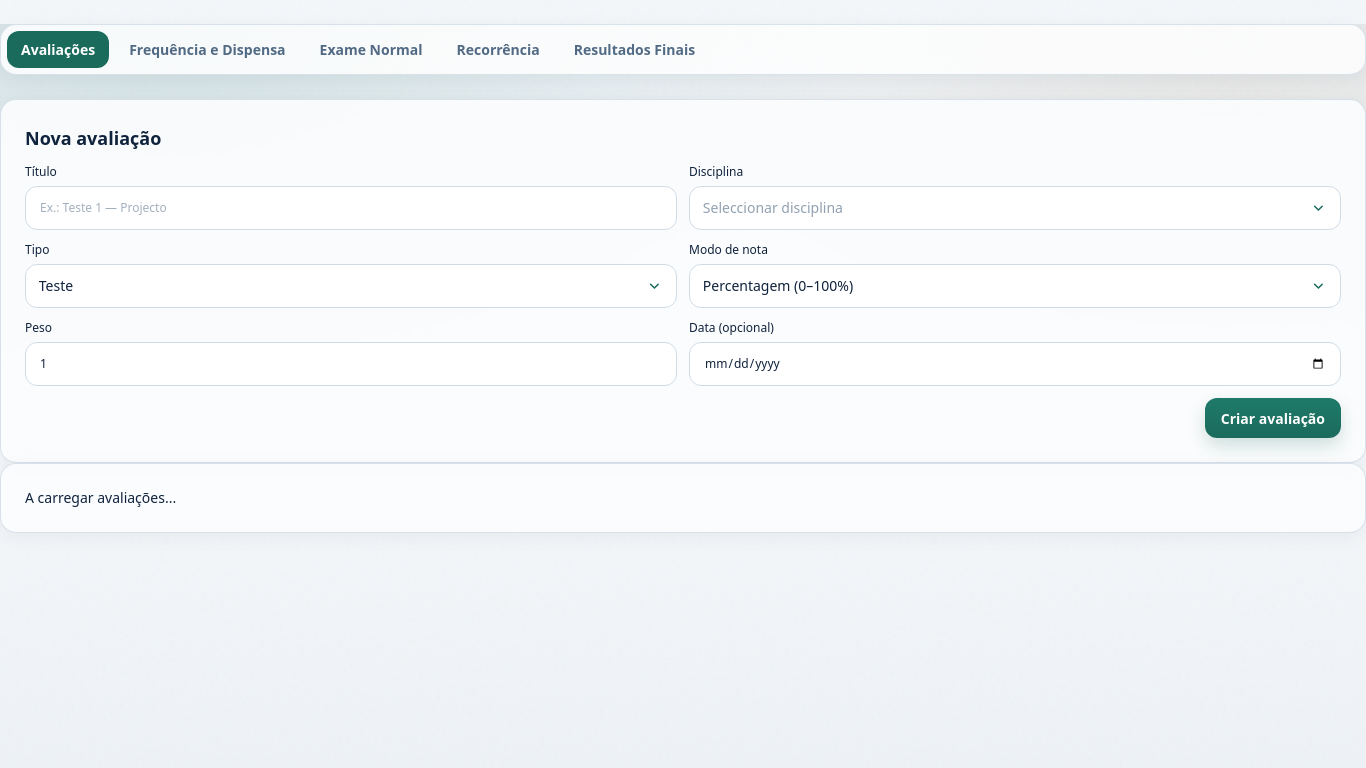
Test: AssessmentsPage › separador Recorrência mostra a legenda do asterisco e campo apenas para elegíveis
This screenshot has width=1366, height=768.
Click the tab "Recorrência" at (498, 50), box [442,31,554,68]
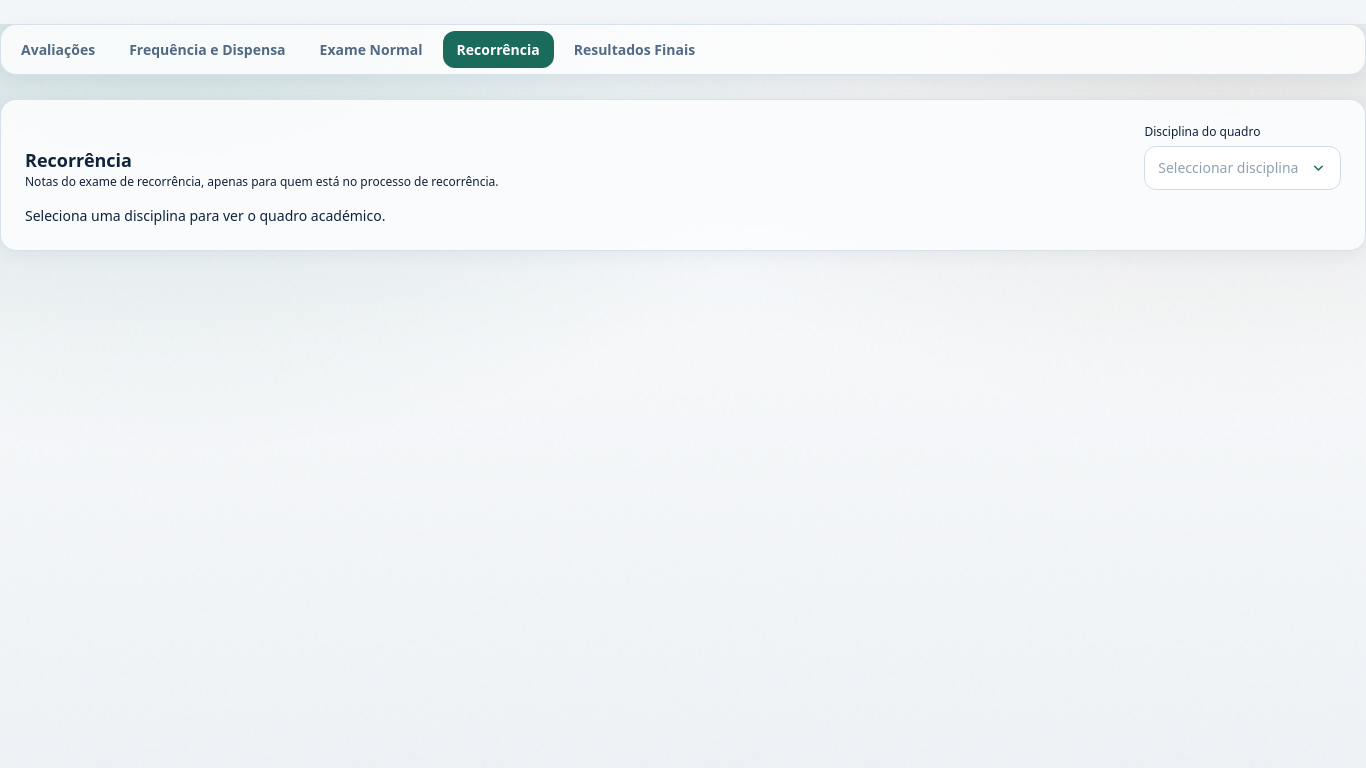
Expected: the label labelled "Disciplina do quadro" is shown
Select "PTP3 — Projeto" in the dropdown labelled "Disciplina do quadro Seleccionar disciplina" at (1243, 157), box [1144,124,1341,190]
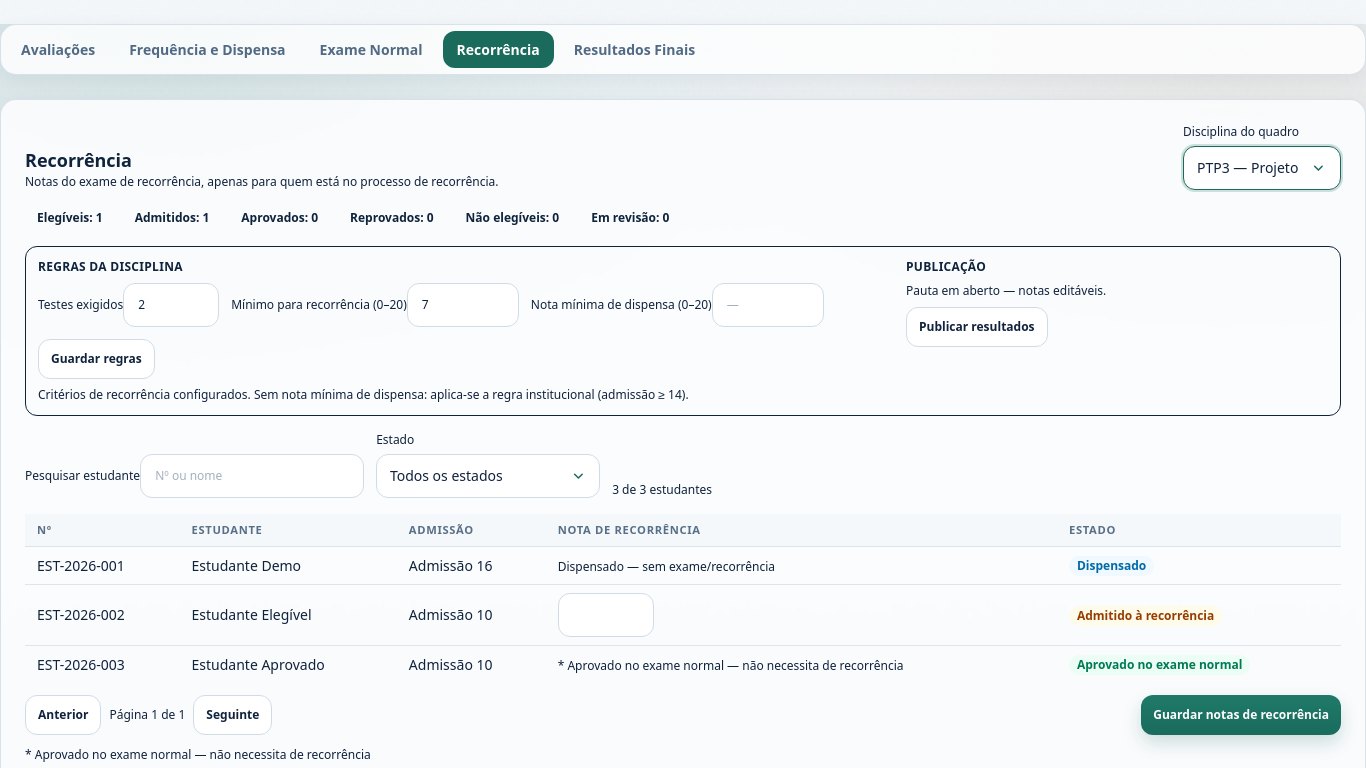
Expected: the field named "Nota de recorrência de EST-2026-002" is shown, [558,593,654,637]
